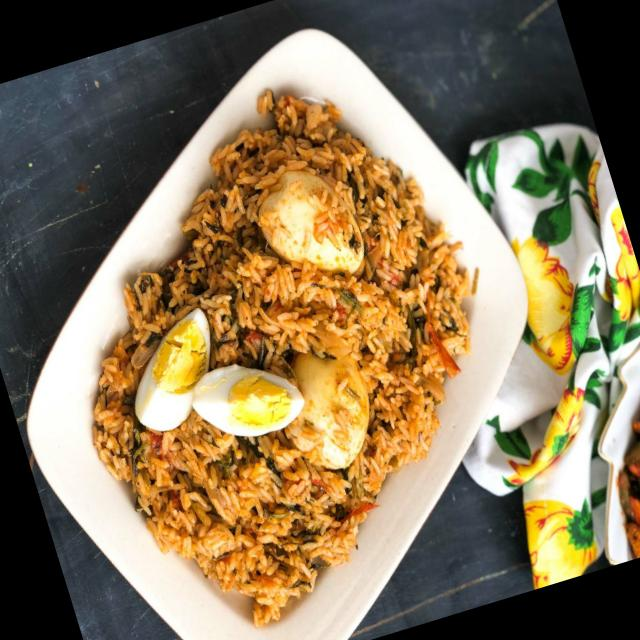Biryani: (5, 45, 560, 640)
